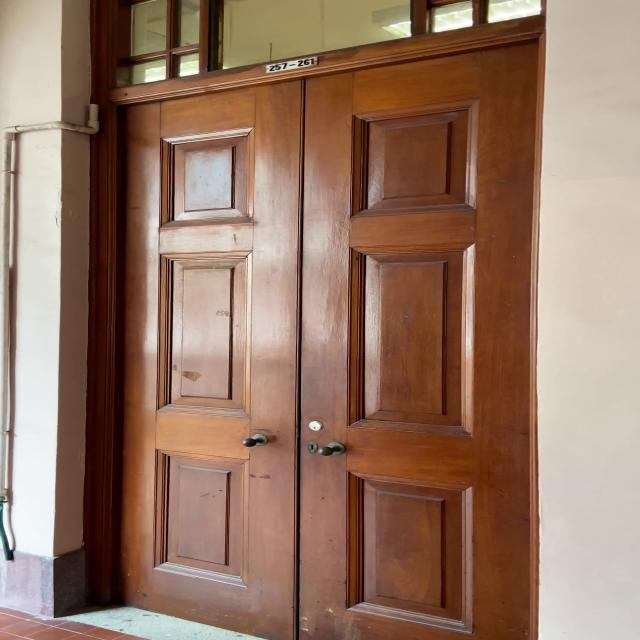room257: (260, 51, 322, 74)
room257door: (102, 12, 550, 640)
